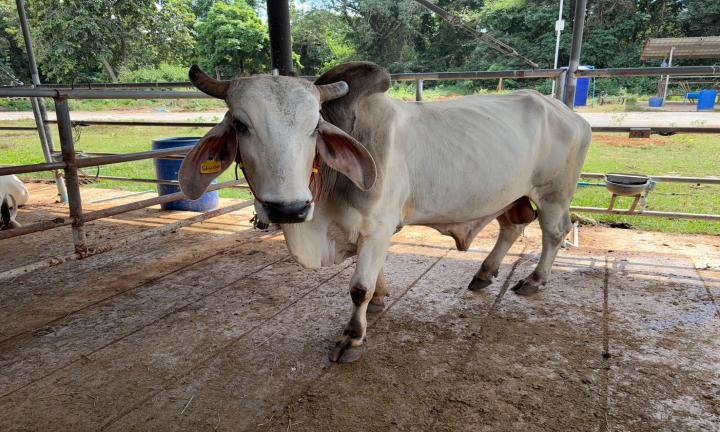Brahman: (179, 62, 591, 362)
